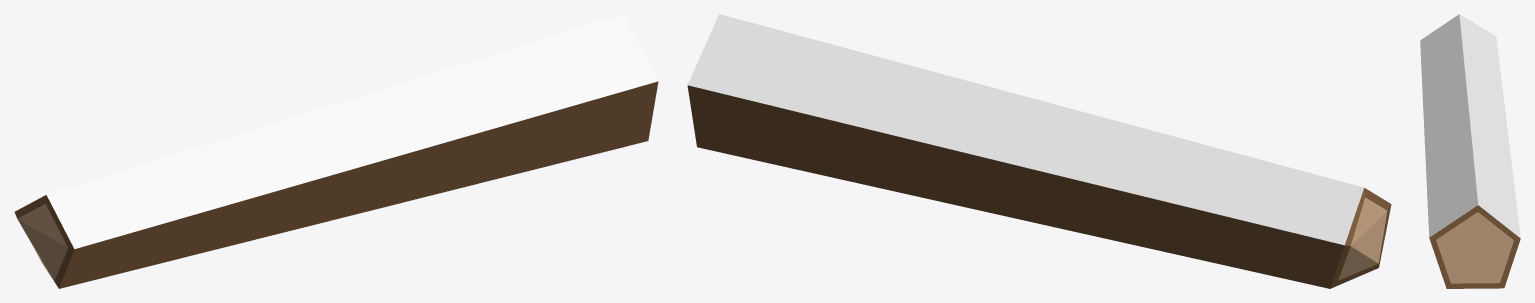
Rendered from Pine_Log_Snow_04.fbx.
3 views of the same model, side by side, from view 1: azimuth 30°, elevation 25°; view 2: azimuth 150°, elevation 25°; view 3: azimuth 270°, elevation 25° (orthographic). The views are drawn at different scales.
Visible parts, largest first — view 1: Pine_Log_Snow_04; view 2: Pine_Log_Snow_04; view 3: Pine_Log_Snow_04.
Part boxes in pixels (x1,y1,x2,y2): Pine_Log_Snow_04: (14,14,658,288); Pine_Log_Snow_04: (687,14,1391,288); Pine_Log_Snow_04: (1420,14,1520,288).
Size of the model in its own units: 331 by 59.08 by 65.36.
